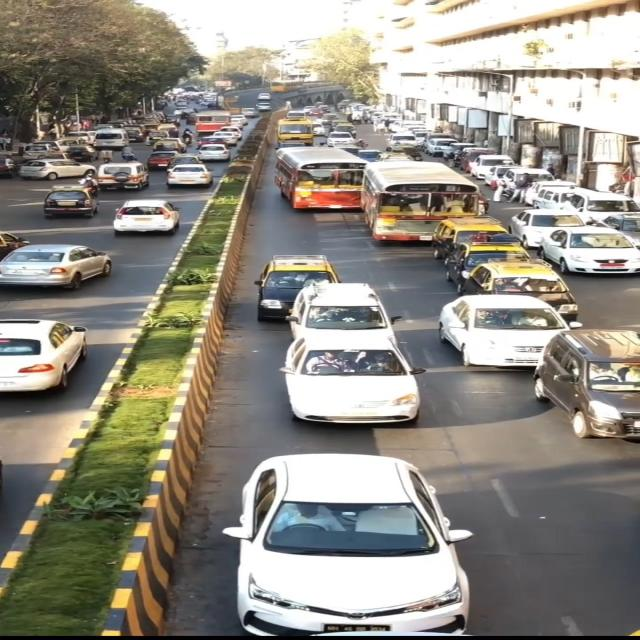Bus: (369, 159, 481, 248), (272, 149, 366, 215)
Car: (220, 449, 498, 640), (281, 343, 438, 431)
